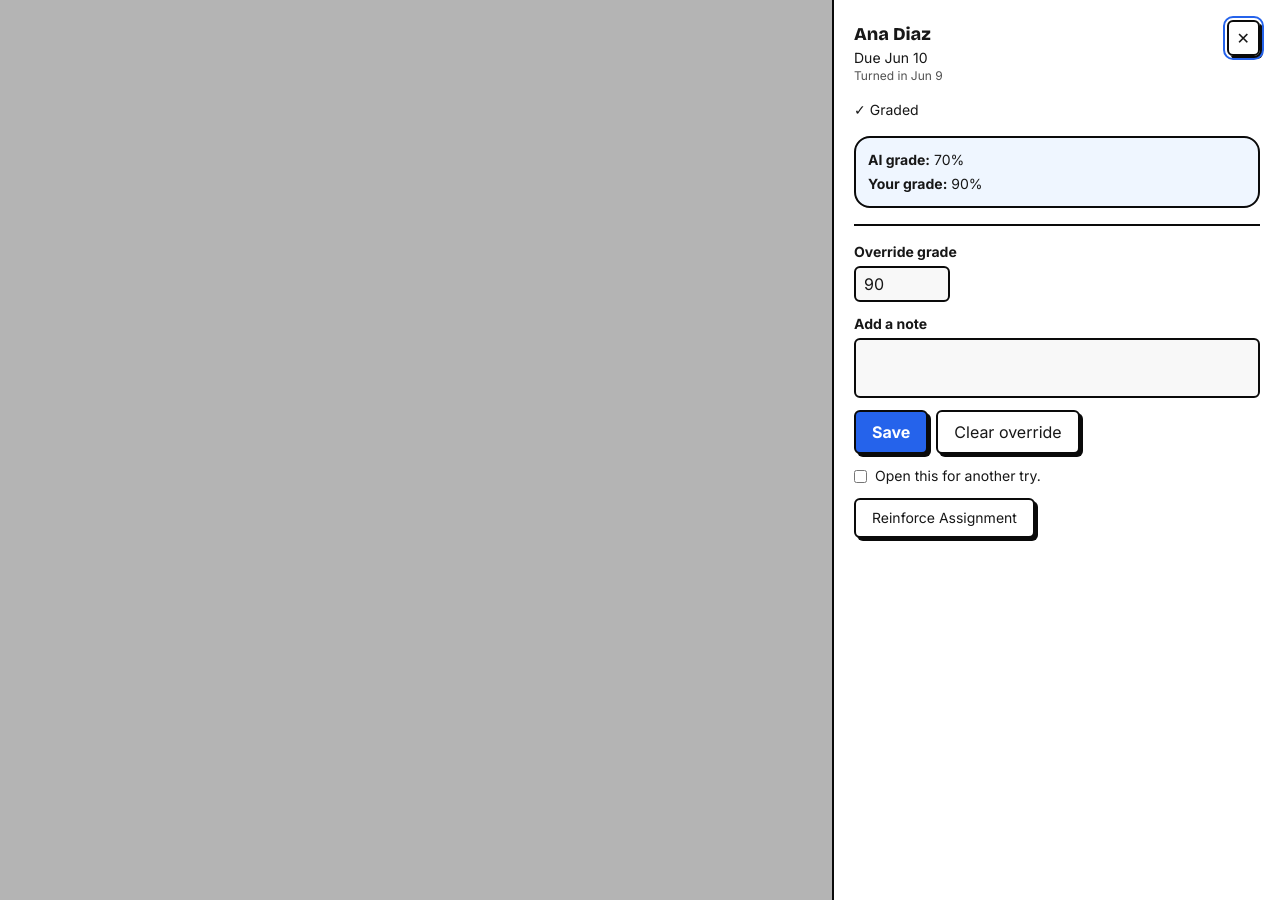
Test: GradebookDrillIn › reverts the reteach toggle on a failed POST and shows an error
Click the checkbox labelled "Open this for another try." at (860, 476), box [854,470,867,482]
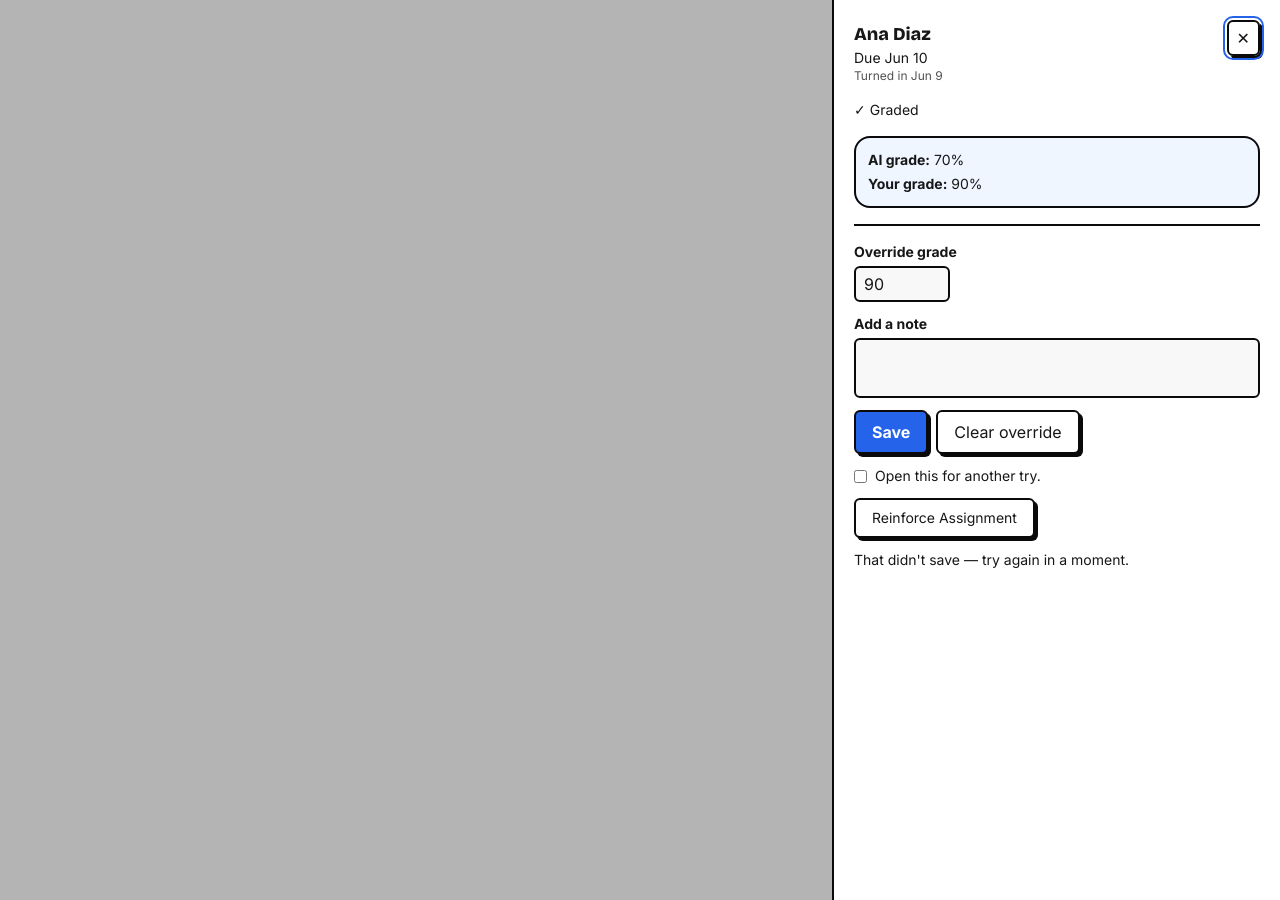
Expected: the message "That didn't save — try again in a moment." is shown, [854,551,1129,568]
